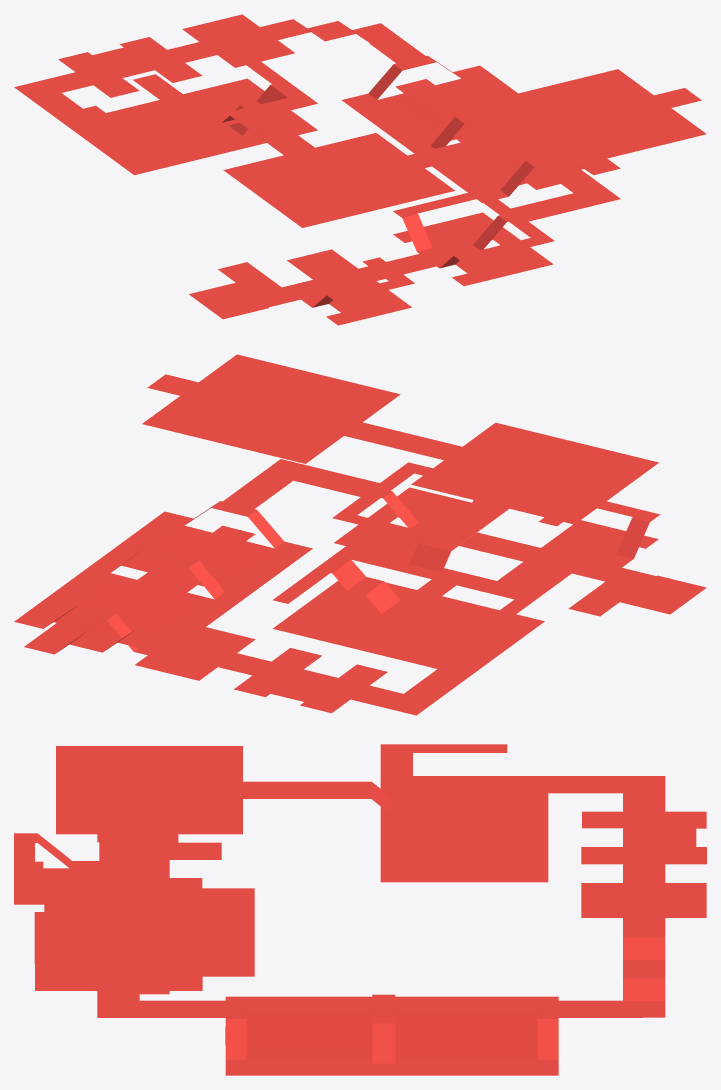
Rendered from 1024_npc_route.fbx.
3 views of the same model, one above another, from view 1: azimuth 30°, elevation 25°; view 2: azimuth 150°, elevation 25°; view 3: azimuth 270°, elevation 25° (orthographic). The views are drawn at different scales.
Parts seen in each view (by area): view 1: npc_route_1024; view 2: npc_route_1024; view 3: npc_route_1024.
Part boxes in pixels (x1=…): npc_route_1024: x1=14, y1=14, x2=706, y2=325; npc_route_1024: x1=14, y1=354, x2=706, y2=715; npc_route_1024: x1=14, y1=744, x2=706, y2=1075.
Size of the model in its own units: 9565 by 1654 by 9861.
